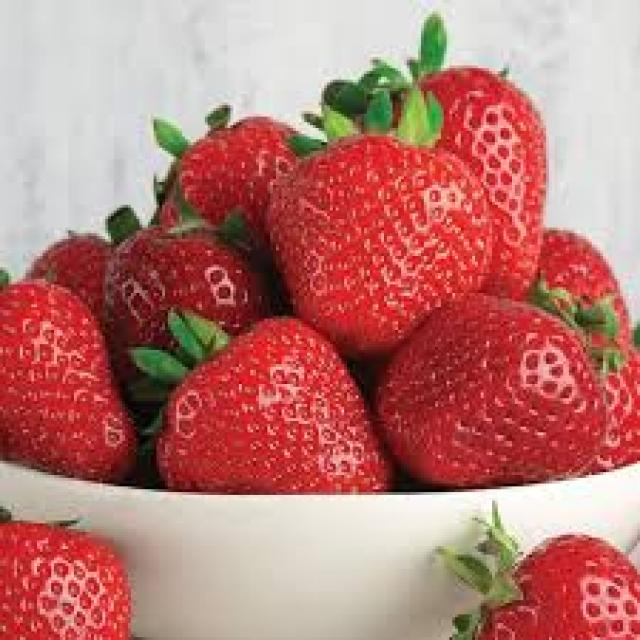strawberry: (156, 346, 388, 494), (302, 118, 484, 298), (428, 299, 600, 477), (0, 272, 102, 466), (475, 531, 640, 640), (0, 511, 130, 640), (159, 109, 273, 230), (415, 56, 552, 146)
